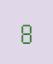eight: (19, 20, 32, 44)
